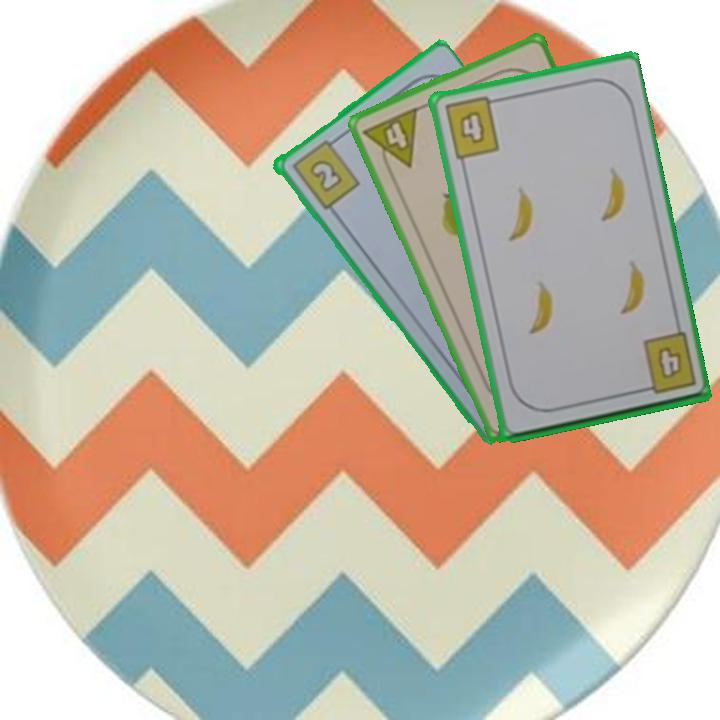2b: (288, 133, 362, 212)
4b: (633, 329, 699, 397), (441, 93, 503, 162)
4p: (359, 103, 421, 179)
